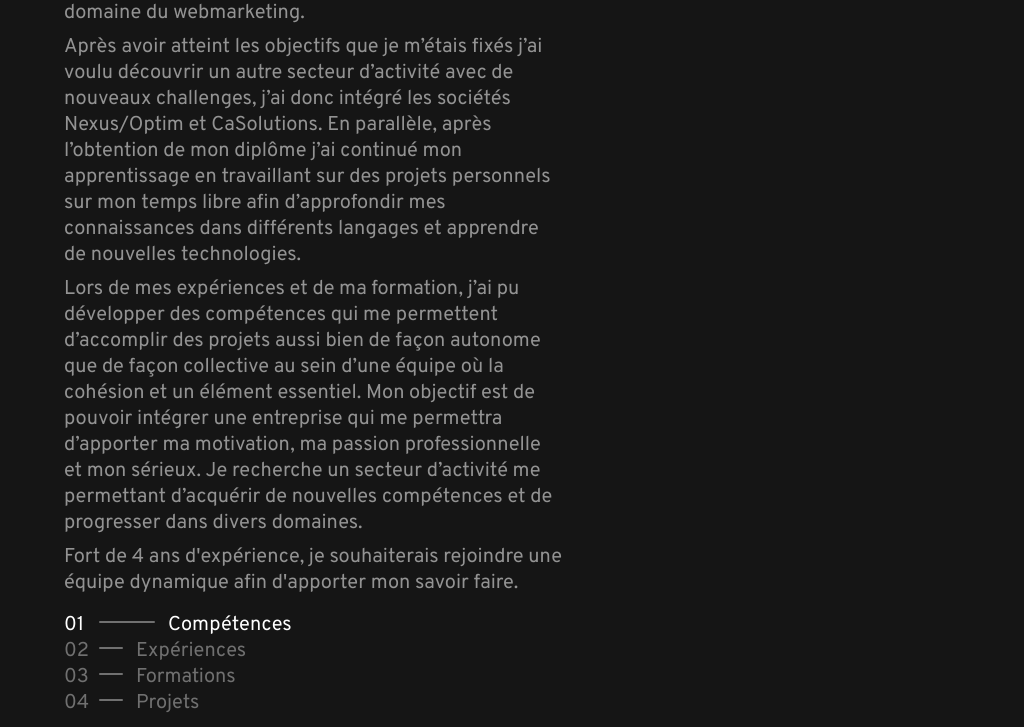
Test: should go to page skills
(page scrolled)
Click the text "Compétences": (230, 625) [168, 612, 292, 638]
(page scrolled)
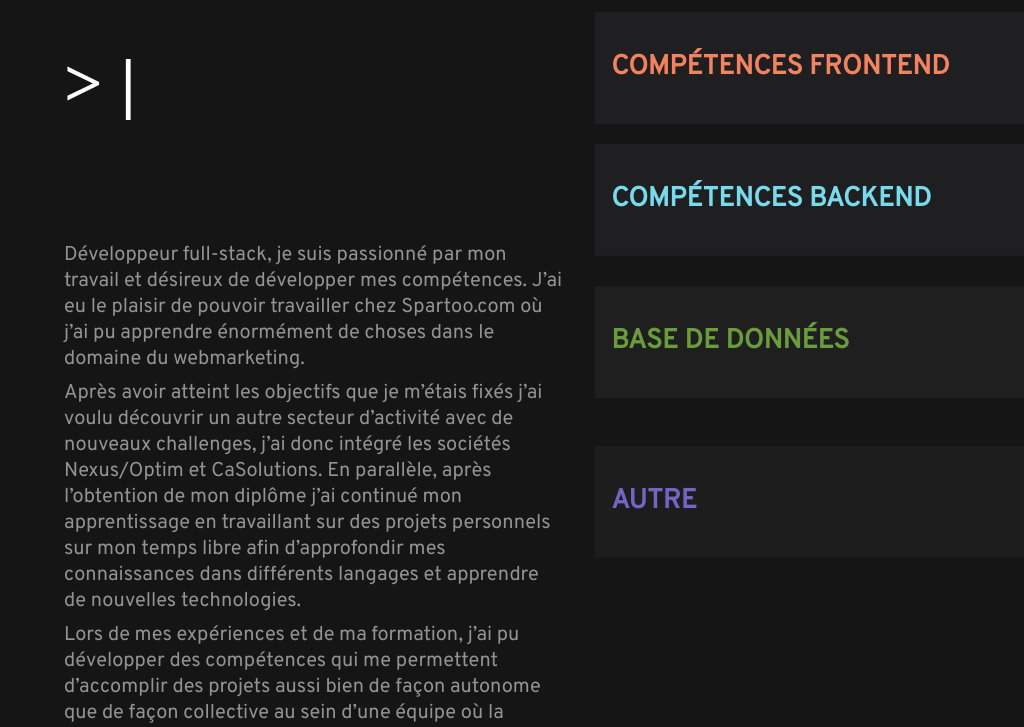
Expected: the heading "Compétences Frontend" is shown, [611, 51, 1008, 85]
